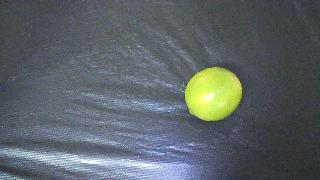LOCAL: (185, 67, 242, 121)
